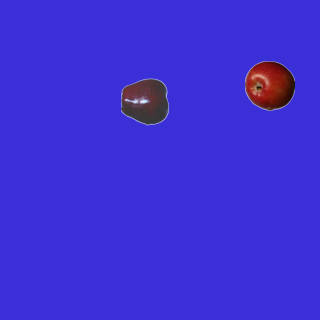Apple Braeburn: (244, 60, 294, 110)
Apple Red Delicious: (120, 76, 170, 126)
